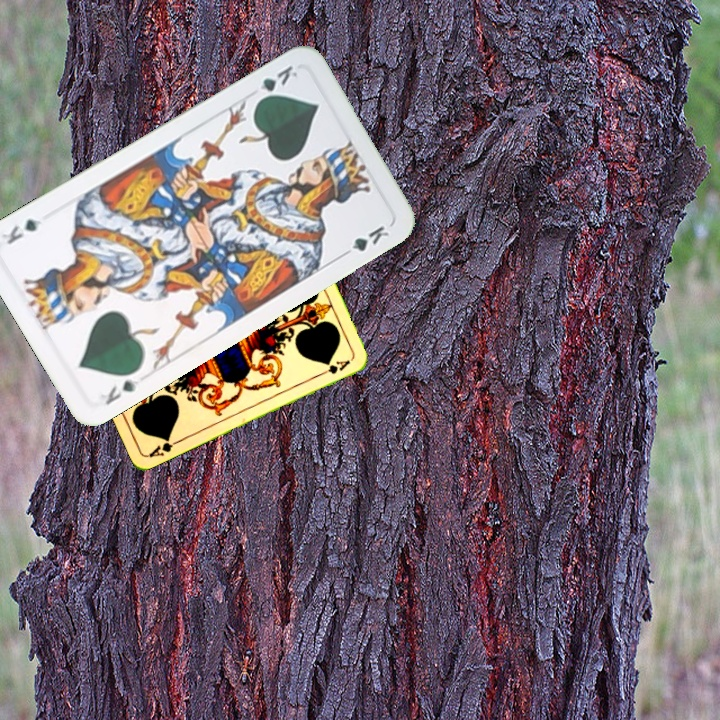GA: (145, 433, 183, 460)
GK: (252, 61, 301, 105), (101, 374, 142, 408)
